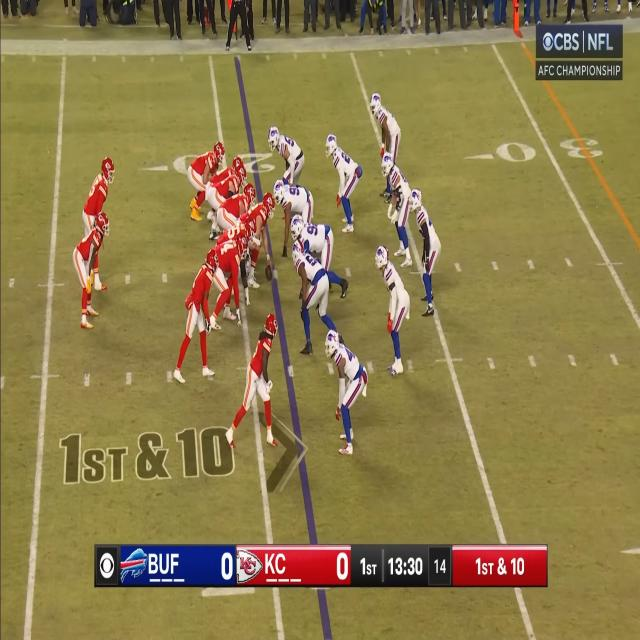Ball: (266, 264, 272, 282)
